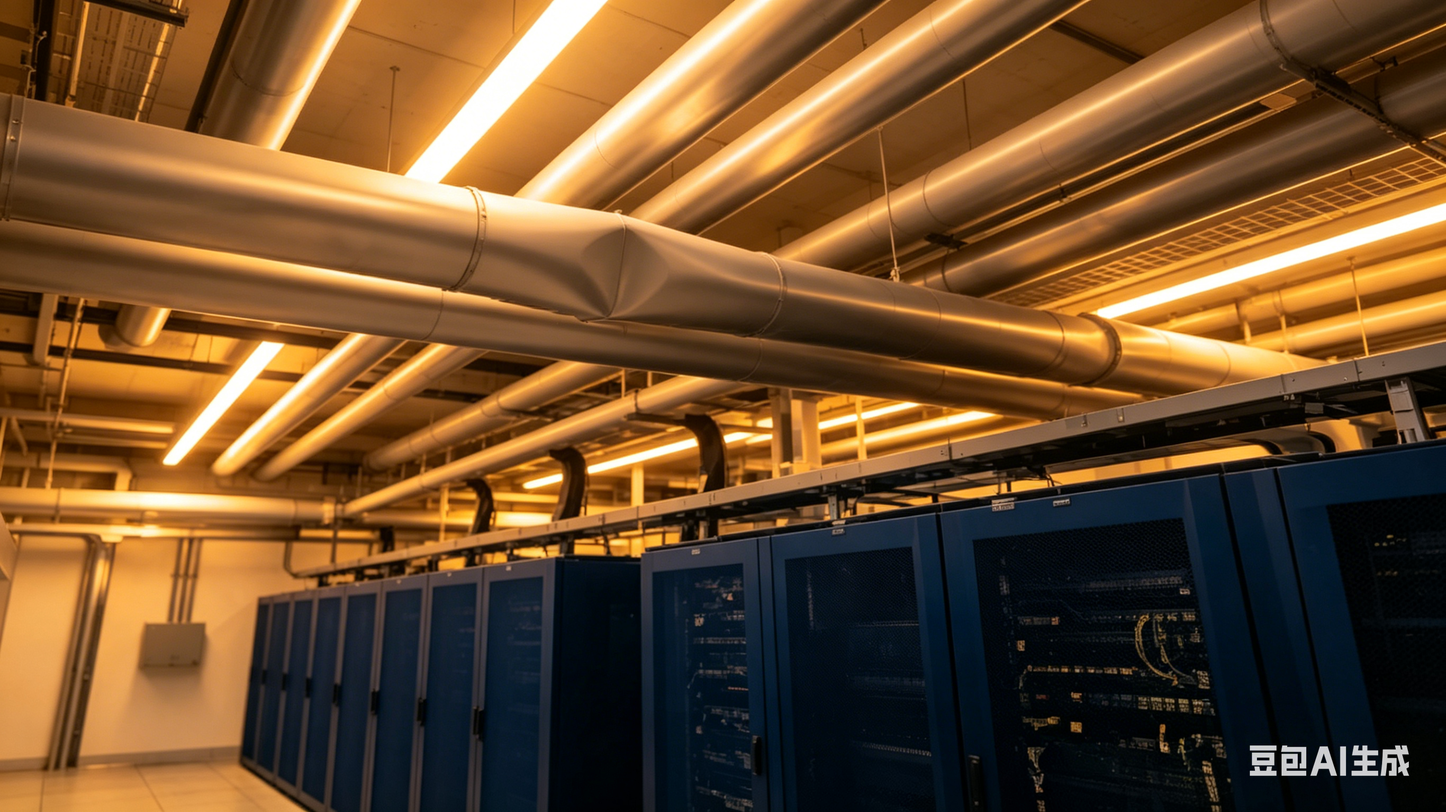Leakage: (554, 217, 690, 335)
